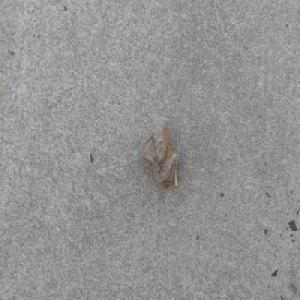Rock: (137, 118, 179, 191)
